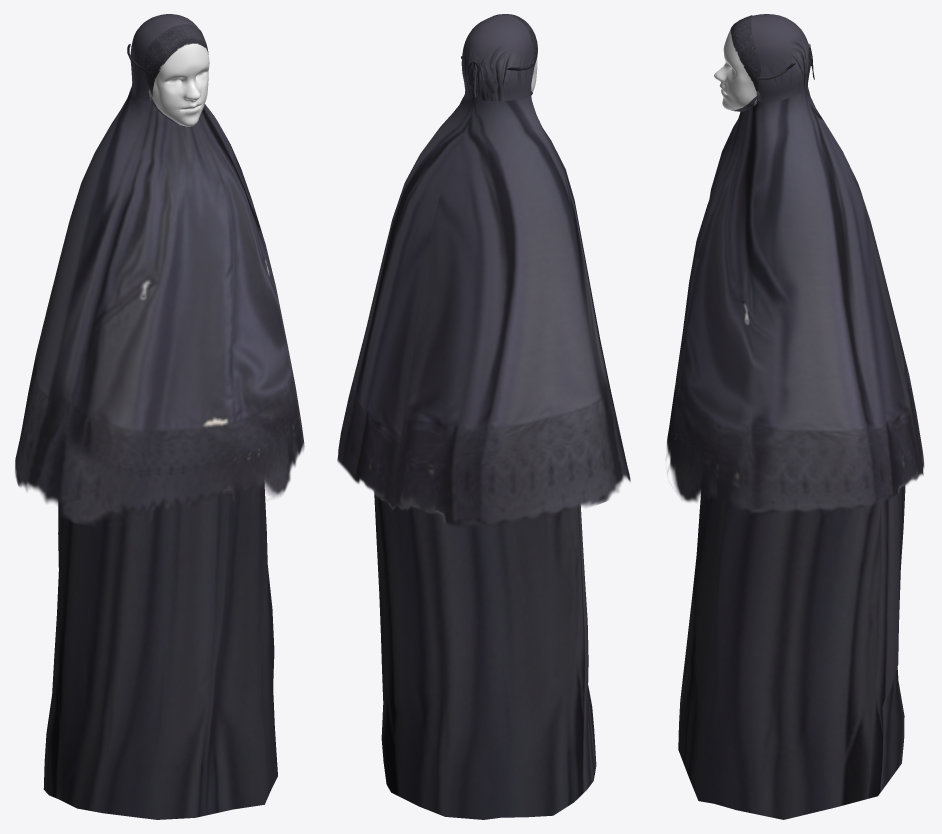
Rendered from telekung.glb.
3 renders of one model, left to right at view 1: azimuth 30°, elevation 25°; view 2: azimuth 150°, elevation 25°; view 3: azimuth 270°, elevation 25°, orthographic. The views are drawn at different scales.
Parts seen in each view (by area): view 1: group7_polySurface17, polySurface4; view 2: group7_polySurface17; view 3: group7_polySurface17, polySurface4.
Part boxes in pixels (x1,y1,x2,y2): group7_polySurface17: (15, 14, 304, 819); polySurface4: (148, 43, 209, 126); group7_polySurface17: (337, 14, 630, 819); group7_polySurface17: (666, 14, 924, 819); polySurface4: (714, 30, 759, 110).
Bounding box in the file's own units: 269 × 755 × 240.
2 materials, 1 textured.
